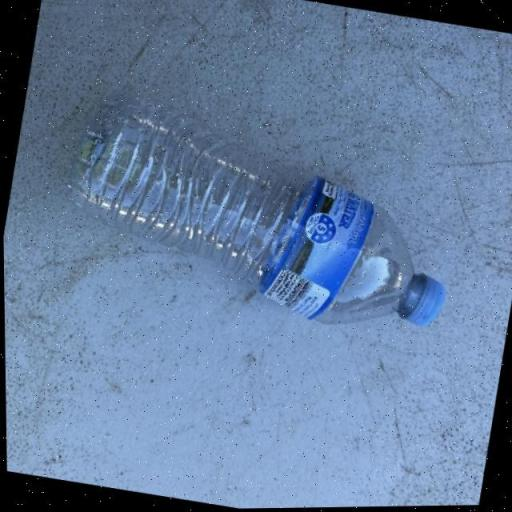plastic: (47, 78, 471, 348)
